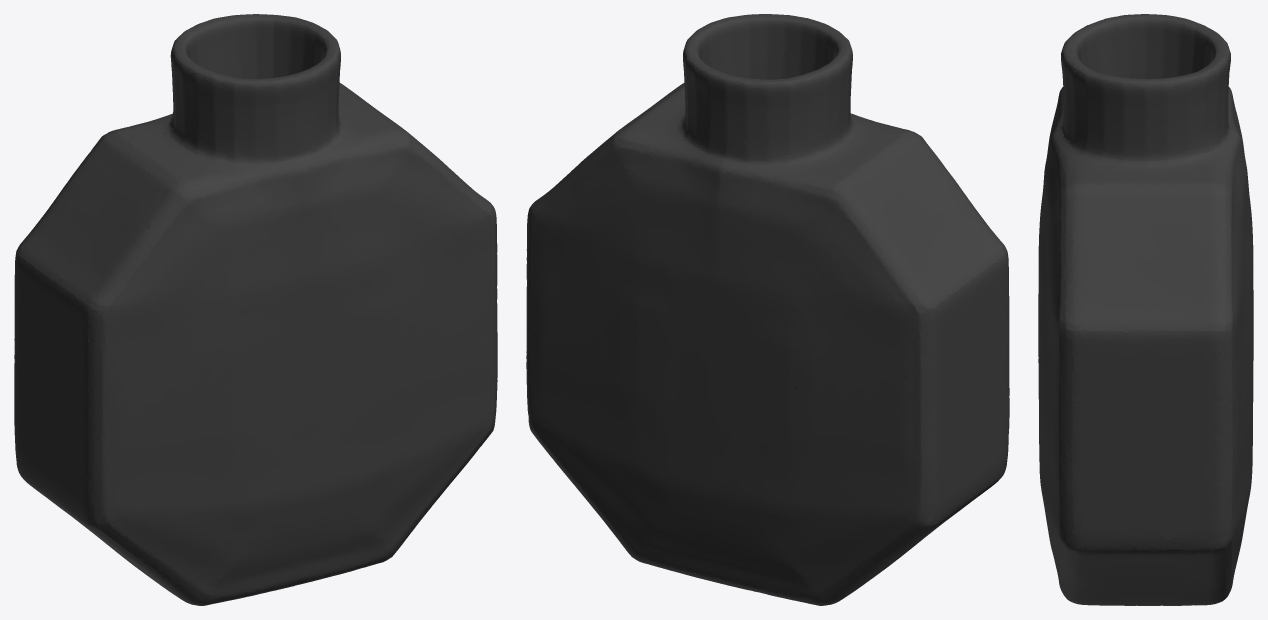
3 renders of one model, left to right at view 1: azimuth 30°, elevation 25°; view 2: azimuth 150°, elevation 25°; view 3: azimuth 270°, elevation 25°, orthographic.
Visible parts, largest first — view 1: world; view 2: world; view 3: world.
Boxes of the visible parts, <box> form: world: <box>14,14,497,605</box>; world: <box>526,14,1009,605</box>; world: <box>1038,14,1253,605</box>.
Bounding box in the file's own units: 0.0626 × 0.075 × 0.0285.
1 material, 1 textured.
